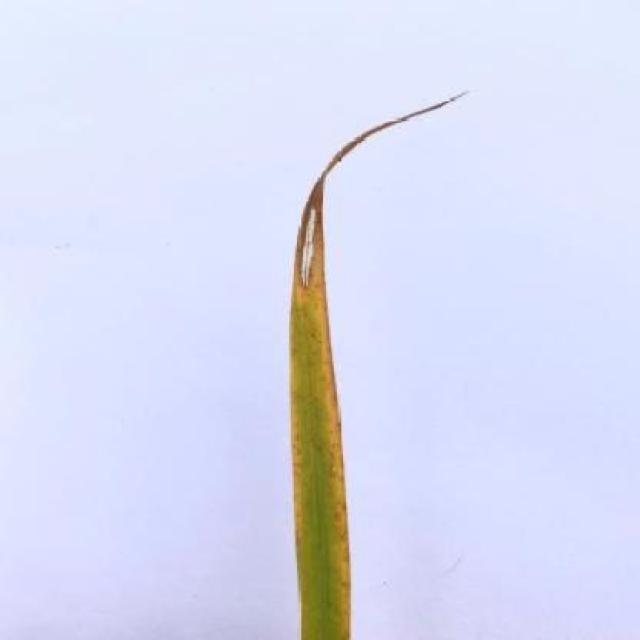Rice False Smut: (227, 62, 508, 629)
